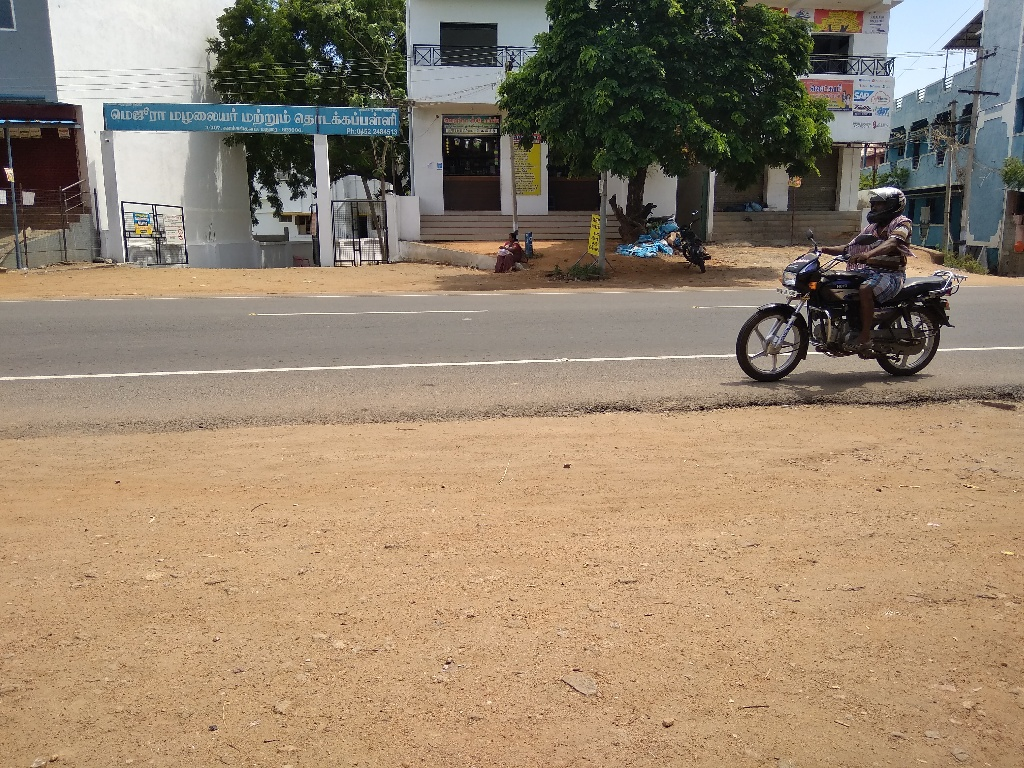biker: (722, 151, 976, 401)
helmet: (857, 175, 918, 234)
